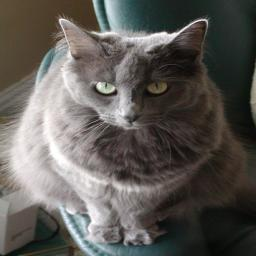catnose: (120, 112, 143, 124)
